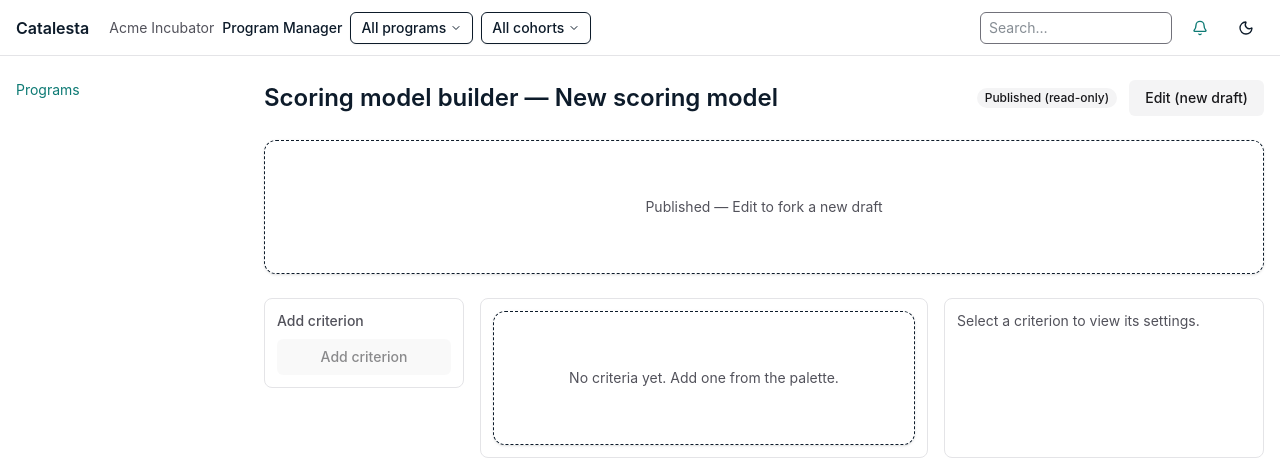
it: published version is read-only and Edit forks a new editable draft
The width and height of the screenshot is (1280, 475).
Expected: the heading "Scoring model builder — New scoring model" is shown, [264,82,778,114]
Expected: the button "Add criterion" is disabled, [277,339,451,375]
Click the button "Edit (new draft)": [1197, 98] box [1129,80,1264,116]
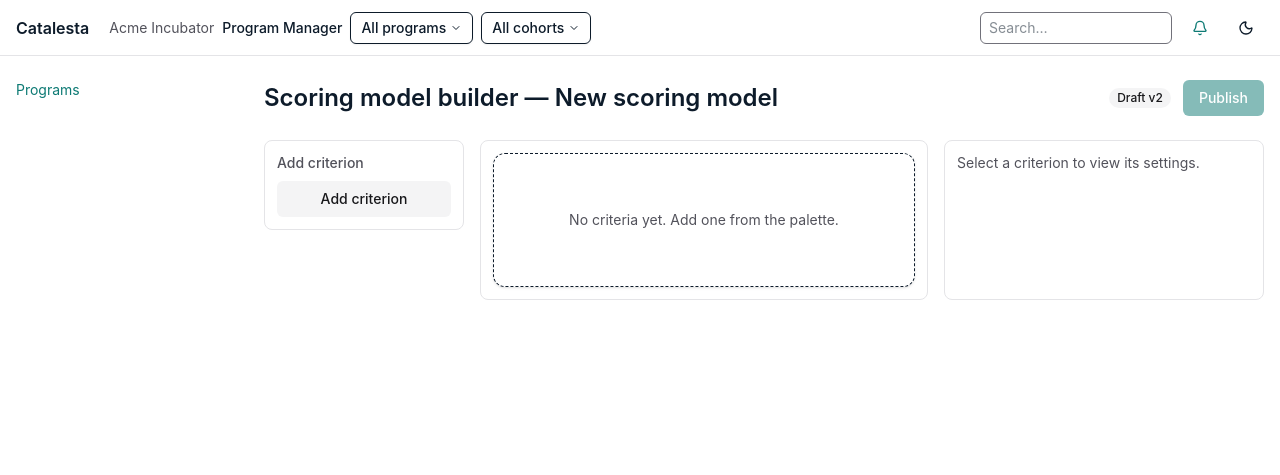
Now the button "Add criterion" is enabled, box [277,181,451,217]
